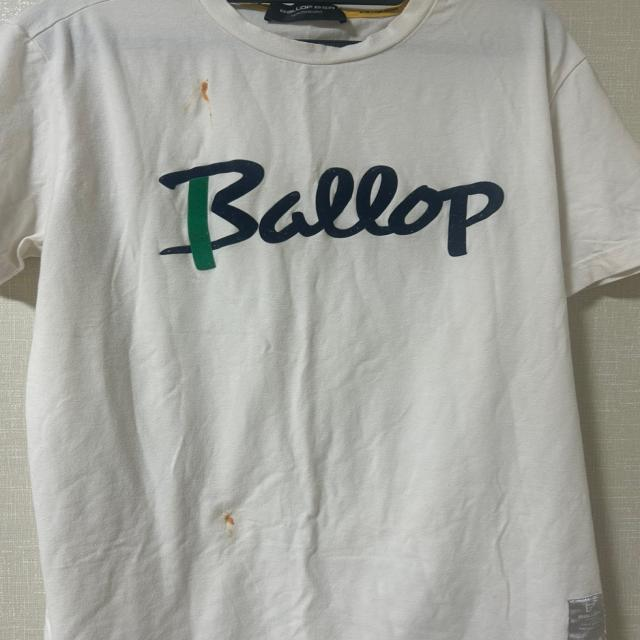stain: (187, 76, 231, 128), (220, 502, 239, 535)
